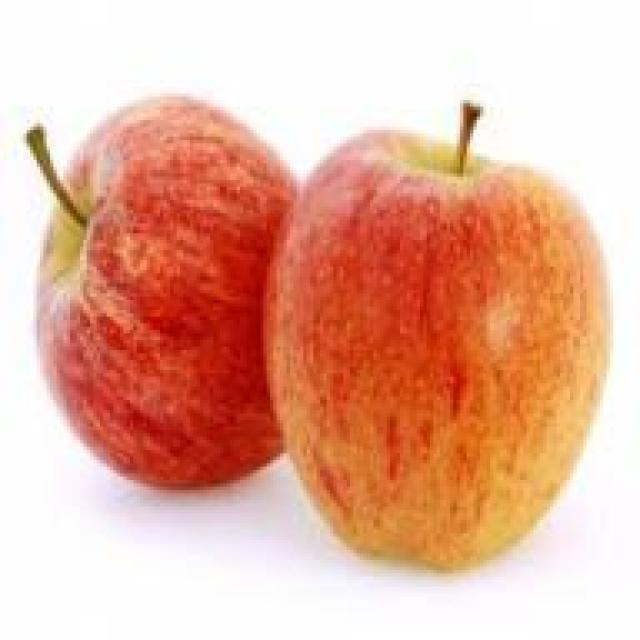apple: (277, 123, 610, 570), (30, 97, 297, 483)
